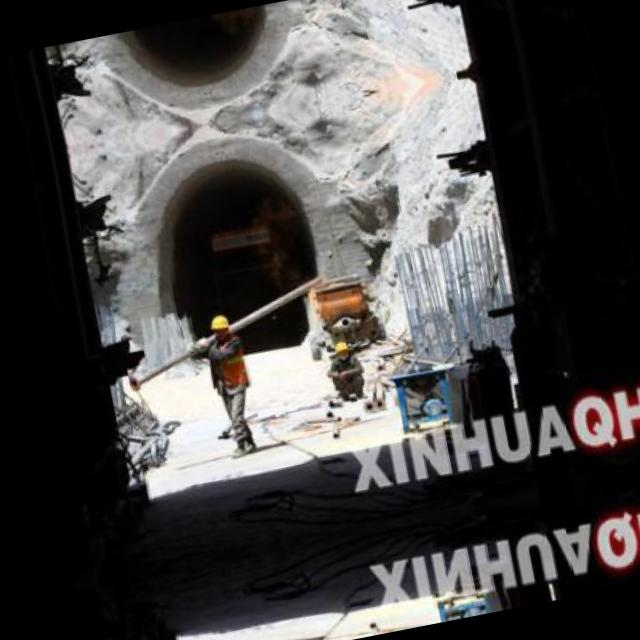helmet: (206, 309, 232, 342), (331, 337, 352, 361)
